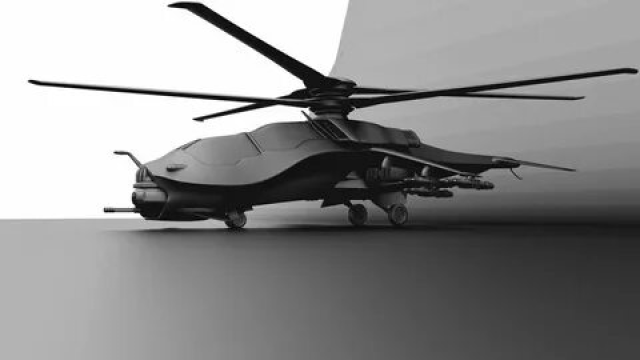military drone: (27, 0, 640, 228)
